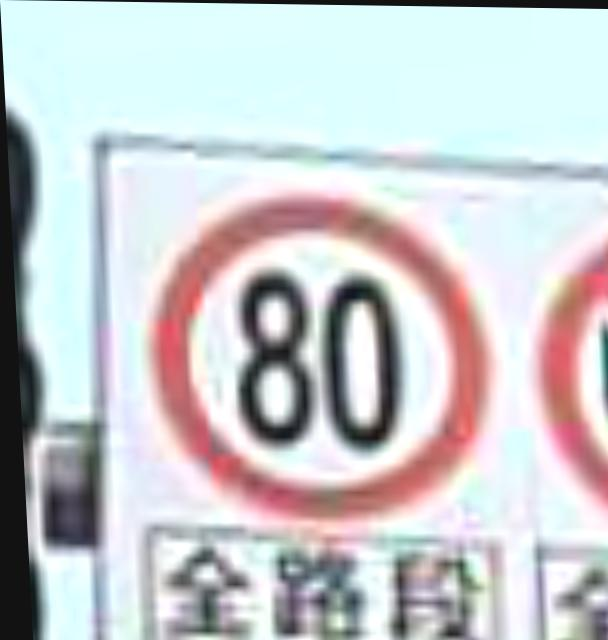limit80: (125, 156, 508, 519)
